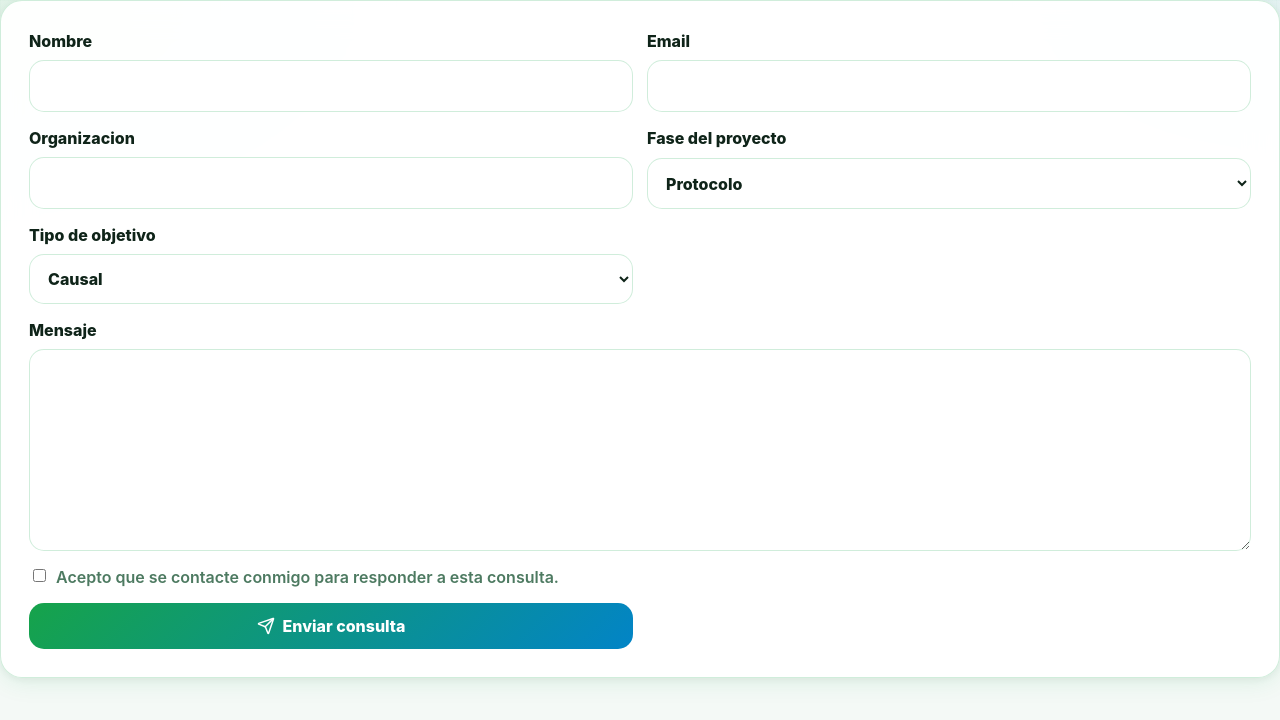
ContactForm › shows a name validation error when submitted empty
Click the button "Enviar consulta".
click(331, 626)  # box [29, 603, 633, 649]
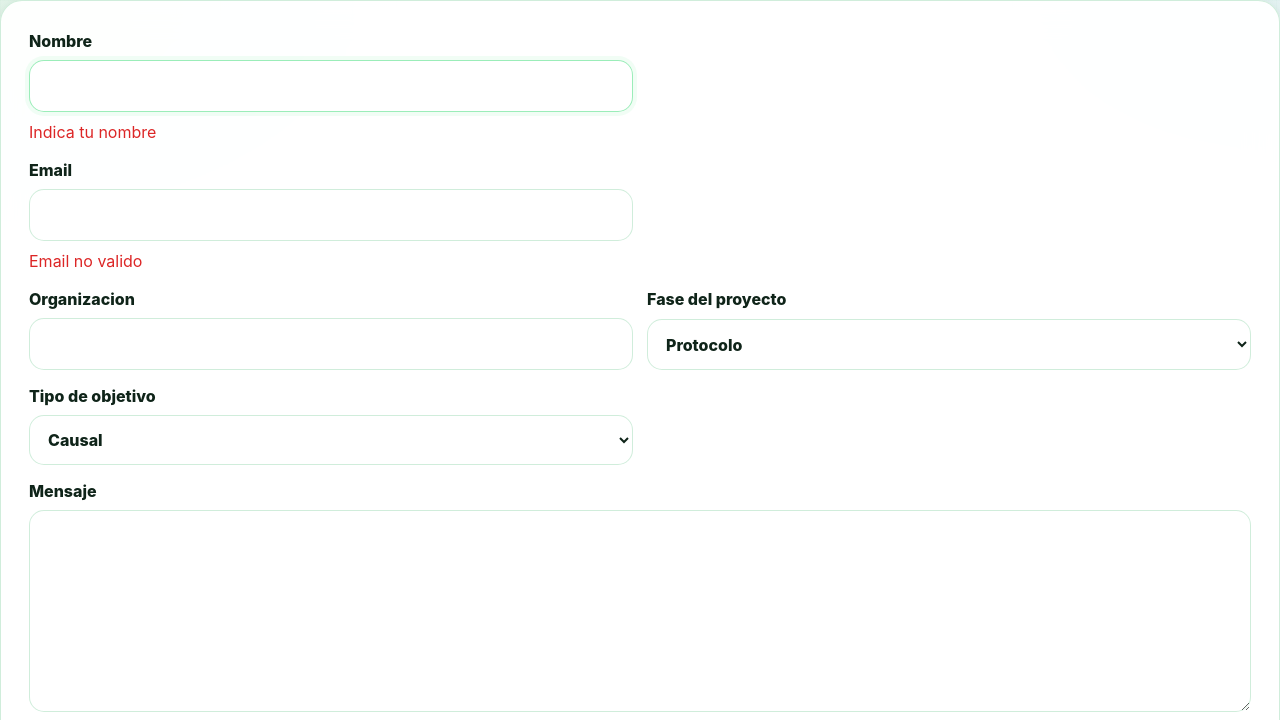
Result: the text "Indica tu nombre" is shown at [29, 122, 156, 142]
